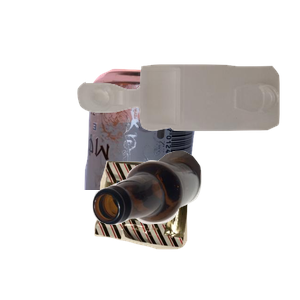glass: (90, 148, 300, 300)
metal: (82, 66, 270, 246)
plastic: (75, 62, 300, 186)
trash: (92, 158, 277, 300)
